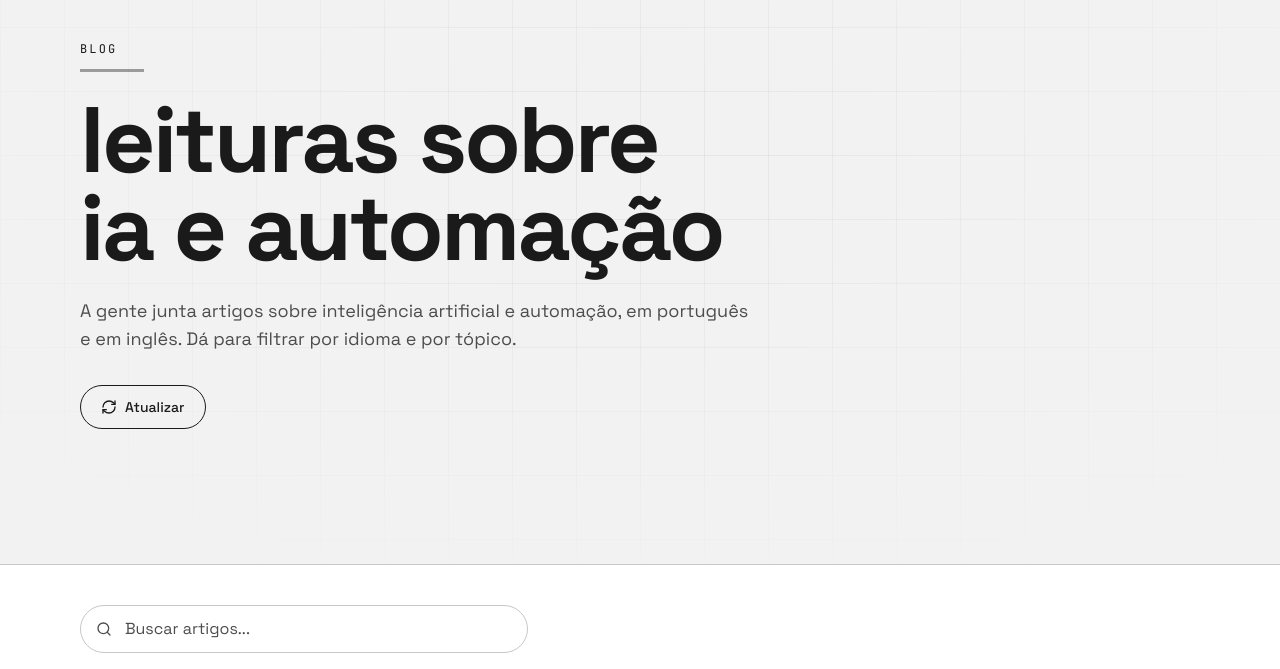
BlogPage filters › filters by search, and says so when nothing matches, with a way back
In the field labelled "Buscar artigos": (304, 629) 80,605 -> 528,653, type "nada disso existe"
(page scrolled)
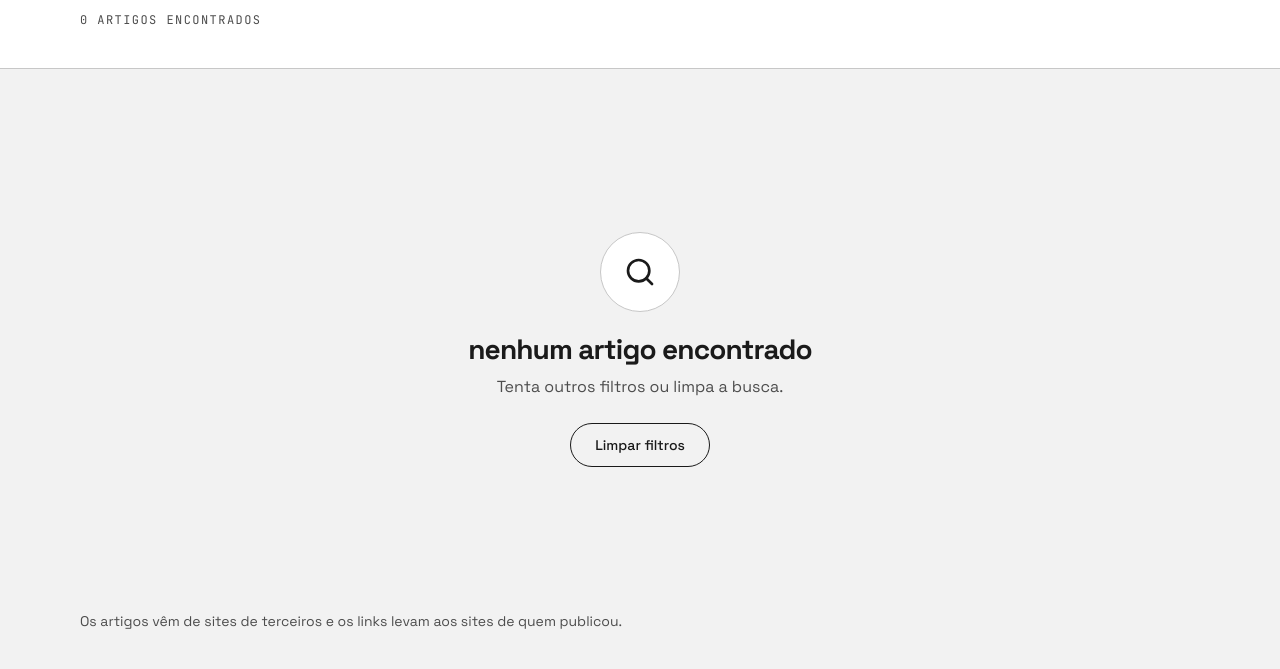
Now the text "Tenta outros filtros ou limpa a busca." is shown, box 497,375 -> 783,399
Click the button "Limpar filtros": (640, 445) 570,423 -> 710,467
(page scrolled)
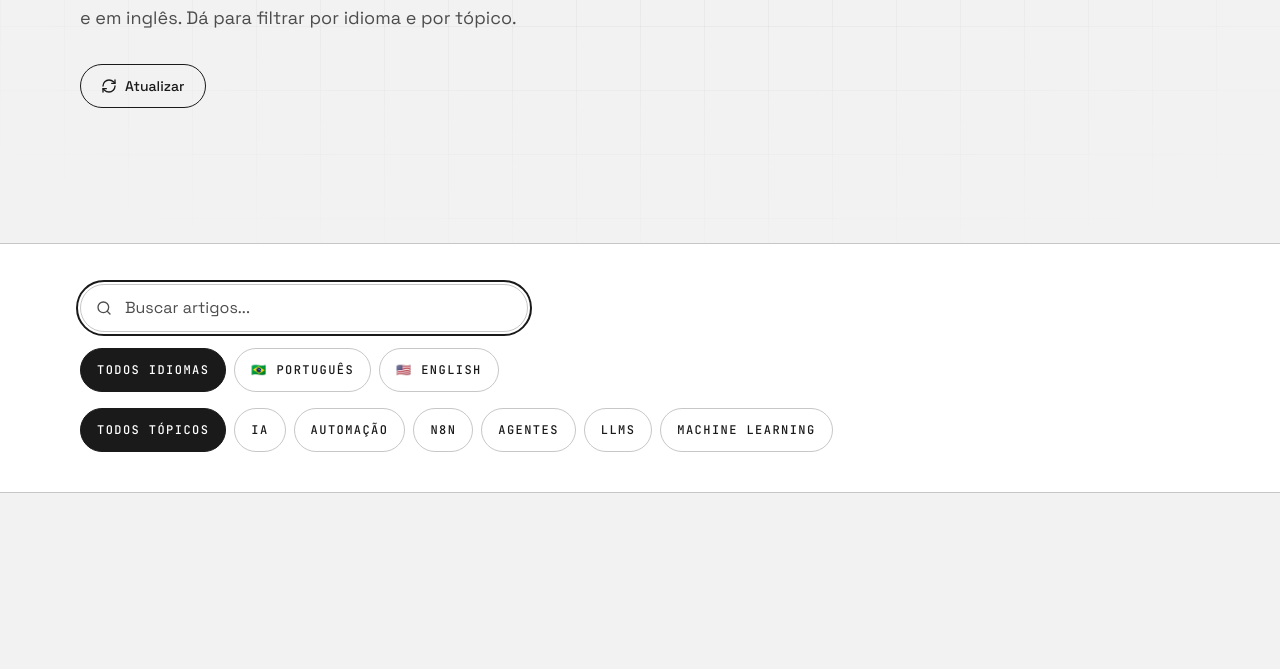
Now the field labelled "Buscar artigos" is empty, box 80,284 -> 528,332
